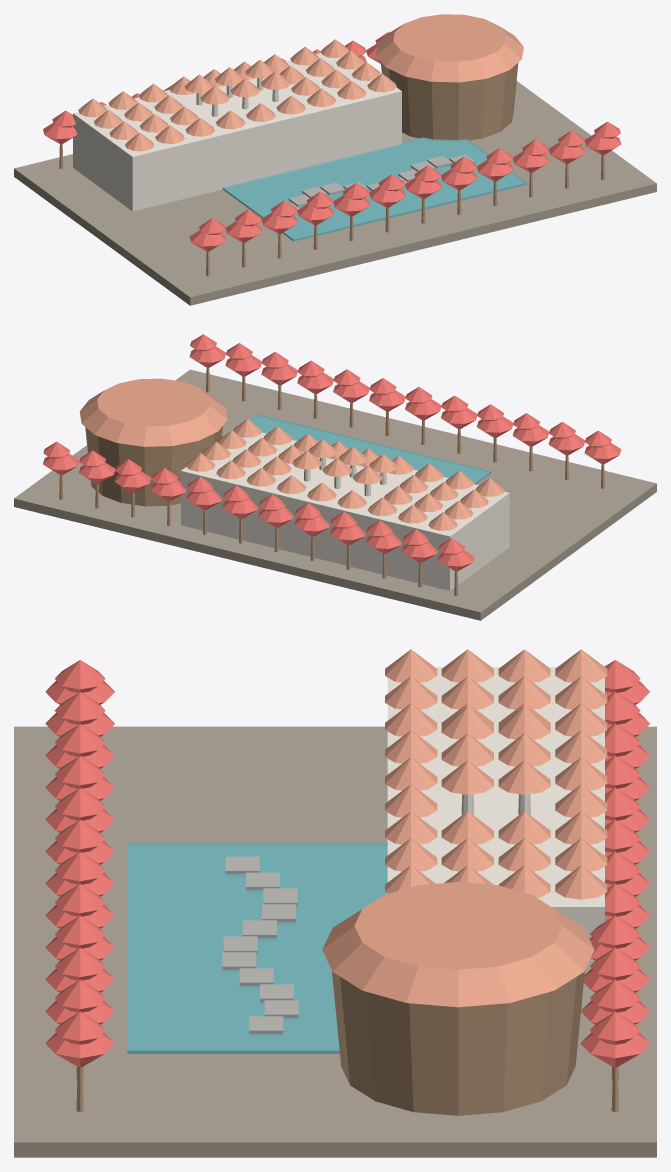
File: lm_57_khu_du_lich_la_phong_dalat_maple_garden_and_koi_house.glb
3 views of the same model, one above another, from view 1: azimuth 30°, elevation 25°; view 2: azimuth 150°, elevation 25°; view 3: azimuth 270°, elevation 25° (orthographic). The views are drawn at different scales.
Parts seen in each view (by area): view 1: lm_57_khu_du_lich_la_phong_dalat_maple_garden_and_koi_house; view 2: lm_57_khu_du_lich_la_phong_dalat_maple_garden_and_koi_house; view 3: lm_57_khu_du_lich_la_phong_dalat_maple_garden_and_koi_house.
Part boxes in pixels (<box>): lm_57_khu_du_lich_la_phong_dalat_maple_garden_and_koi_house: <box>14,14,656,305</box>; lm_57_khu_du_lich_la_phong_dalat_maple_garden_and_koi_house: <box>14,334,656,620</box>; lm_57_khu_du_lich_la_phong_dalat_maple_garden_and_koi_house: <box>14,649,656,1157</box>.
Bounding box in the file's own units: 52 × 9.85 × 34.
